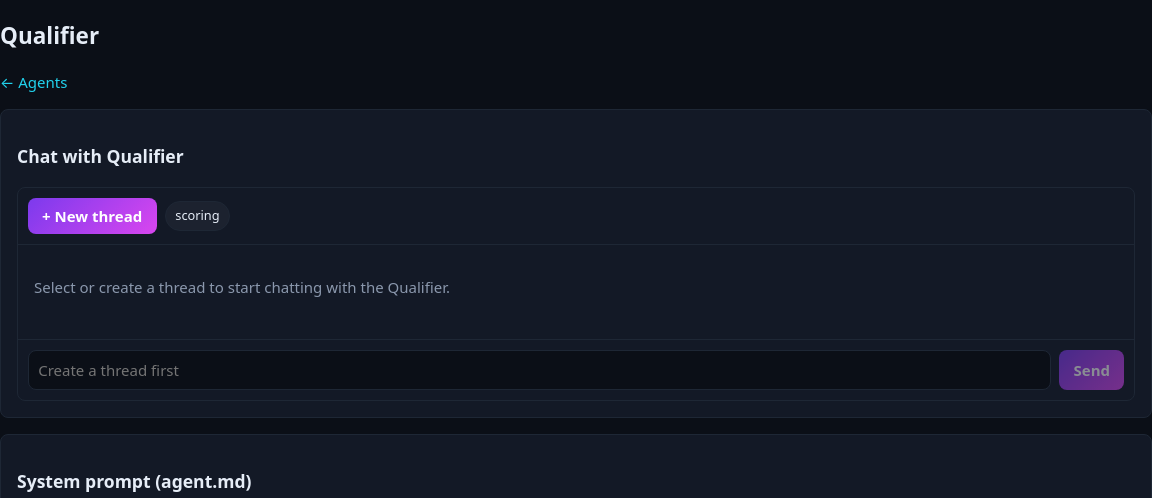
Test: AgentsDetail › renders chat + prompt editor + provider keys for qualifier (roster-only)
Expected: the heading "Qualifier" is shown, [0, 20, 99, 51]
Expected: the heading "System prompt (agent.md)" is shown, [17, 469, 252, 493]
What coordinates should you click on to do the following:
click the button "scoring"
I would click on:
 (198, 216)
Its box is [165, 201, 230, 231].
(page scrolled)
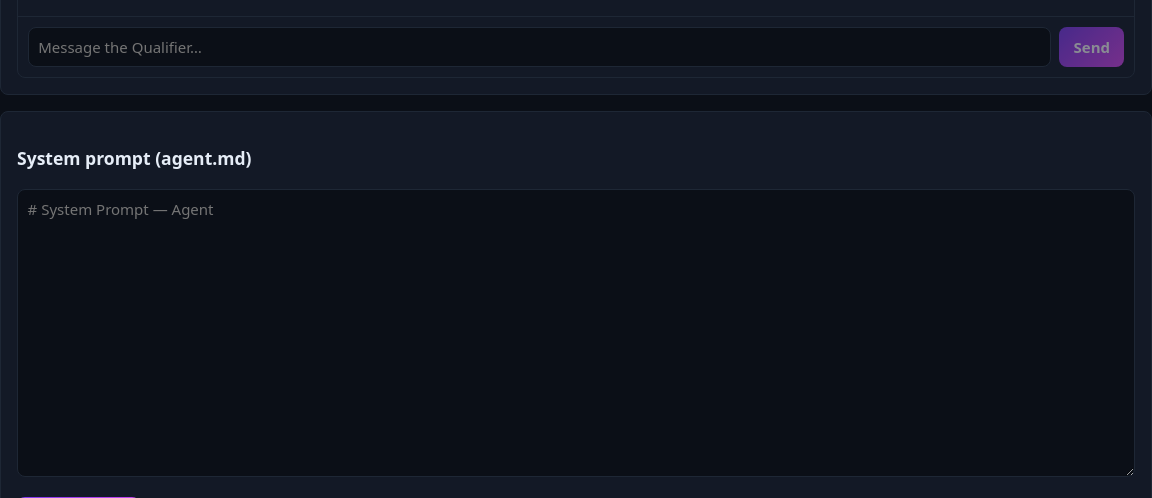
Expected: the field with placeholder "Message the Qualifier…" is shown, [28, 27, 1051, 67]
